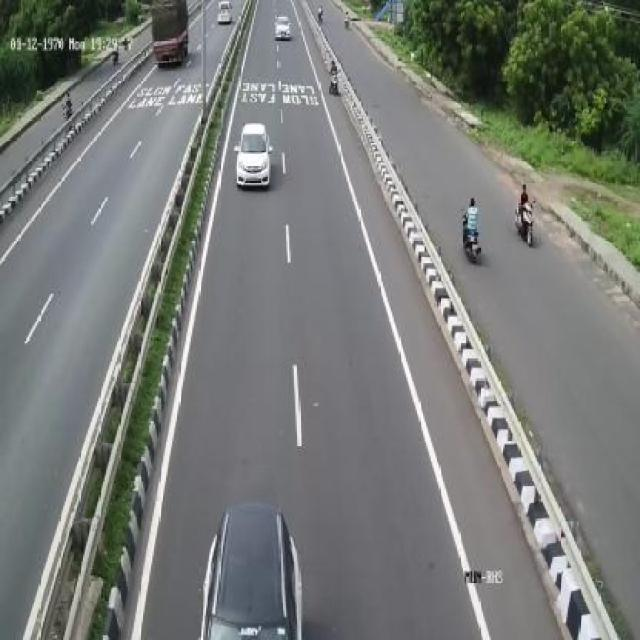car: (238, 123, 274, 192), (271, 14, 294, 43)
